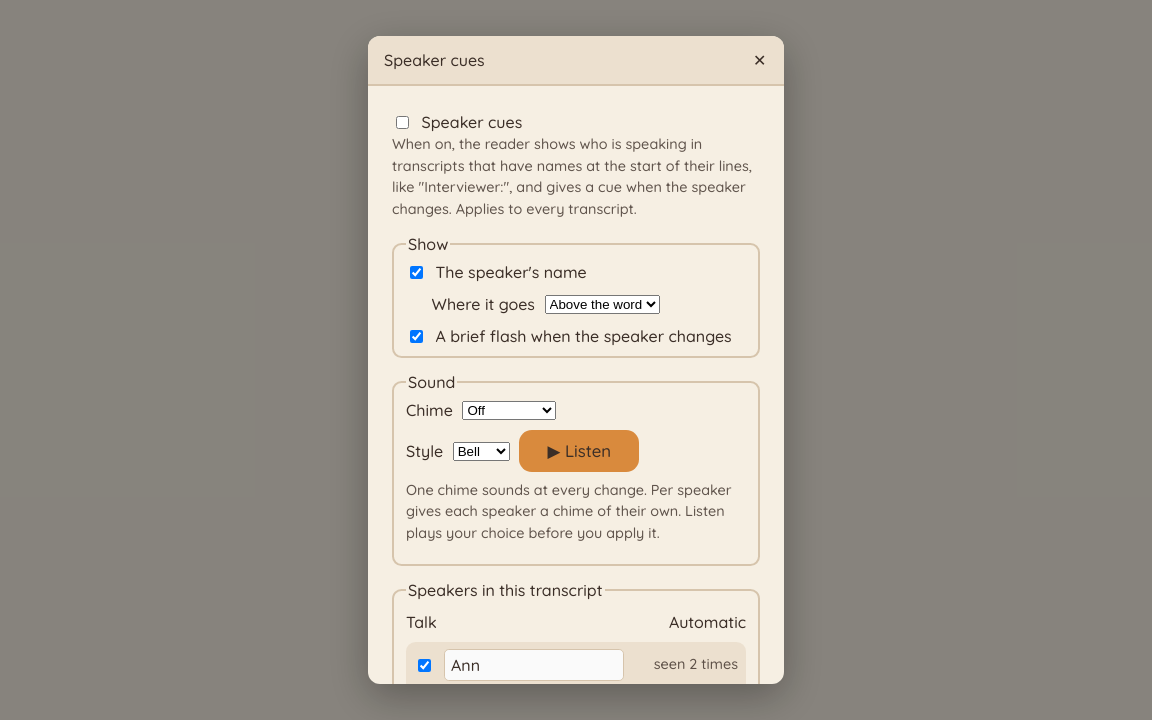
the speaker list › typing_a_name_makes_the_list_custom
Replace the text in the field named "Name shown for Ann" with "Annie": (534, 665) [444, 649, 624, 681]
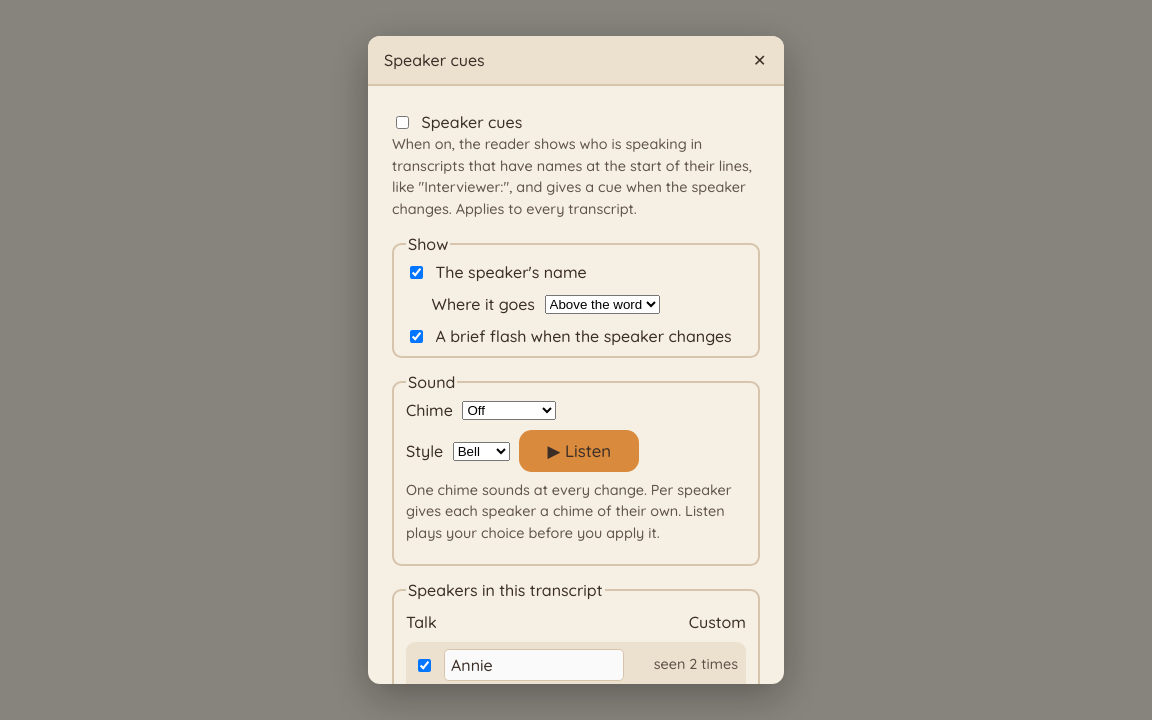
Now the text with test id "list-mode" reads "Custom", box [689, 612, 746, 632]
